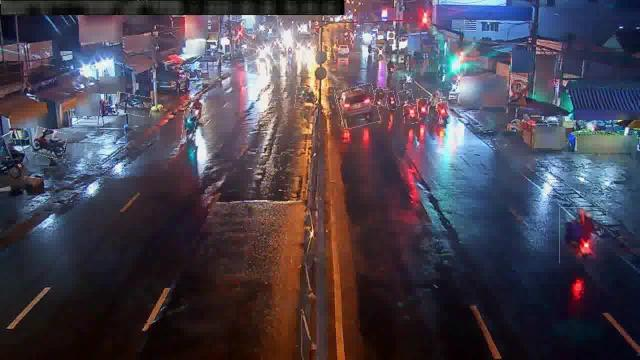Bike: (560, 208, 602, 264), (32, 128, 66, 158), (116, 94, 152, 116), (182, 109, 196, 141), (295, 87, 315, 109), (190, 97, 206, 123), (437, 102, 451, 124), (404, 104, 418, 124), (374, 89, 388, 107), (325, 87, 335, 111), (398, 90, 414, 105), (418, 99, 428, 122), (386, 92, 396, 110)
Car: (338, 84, 378, 128)
